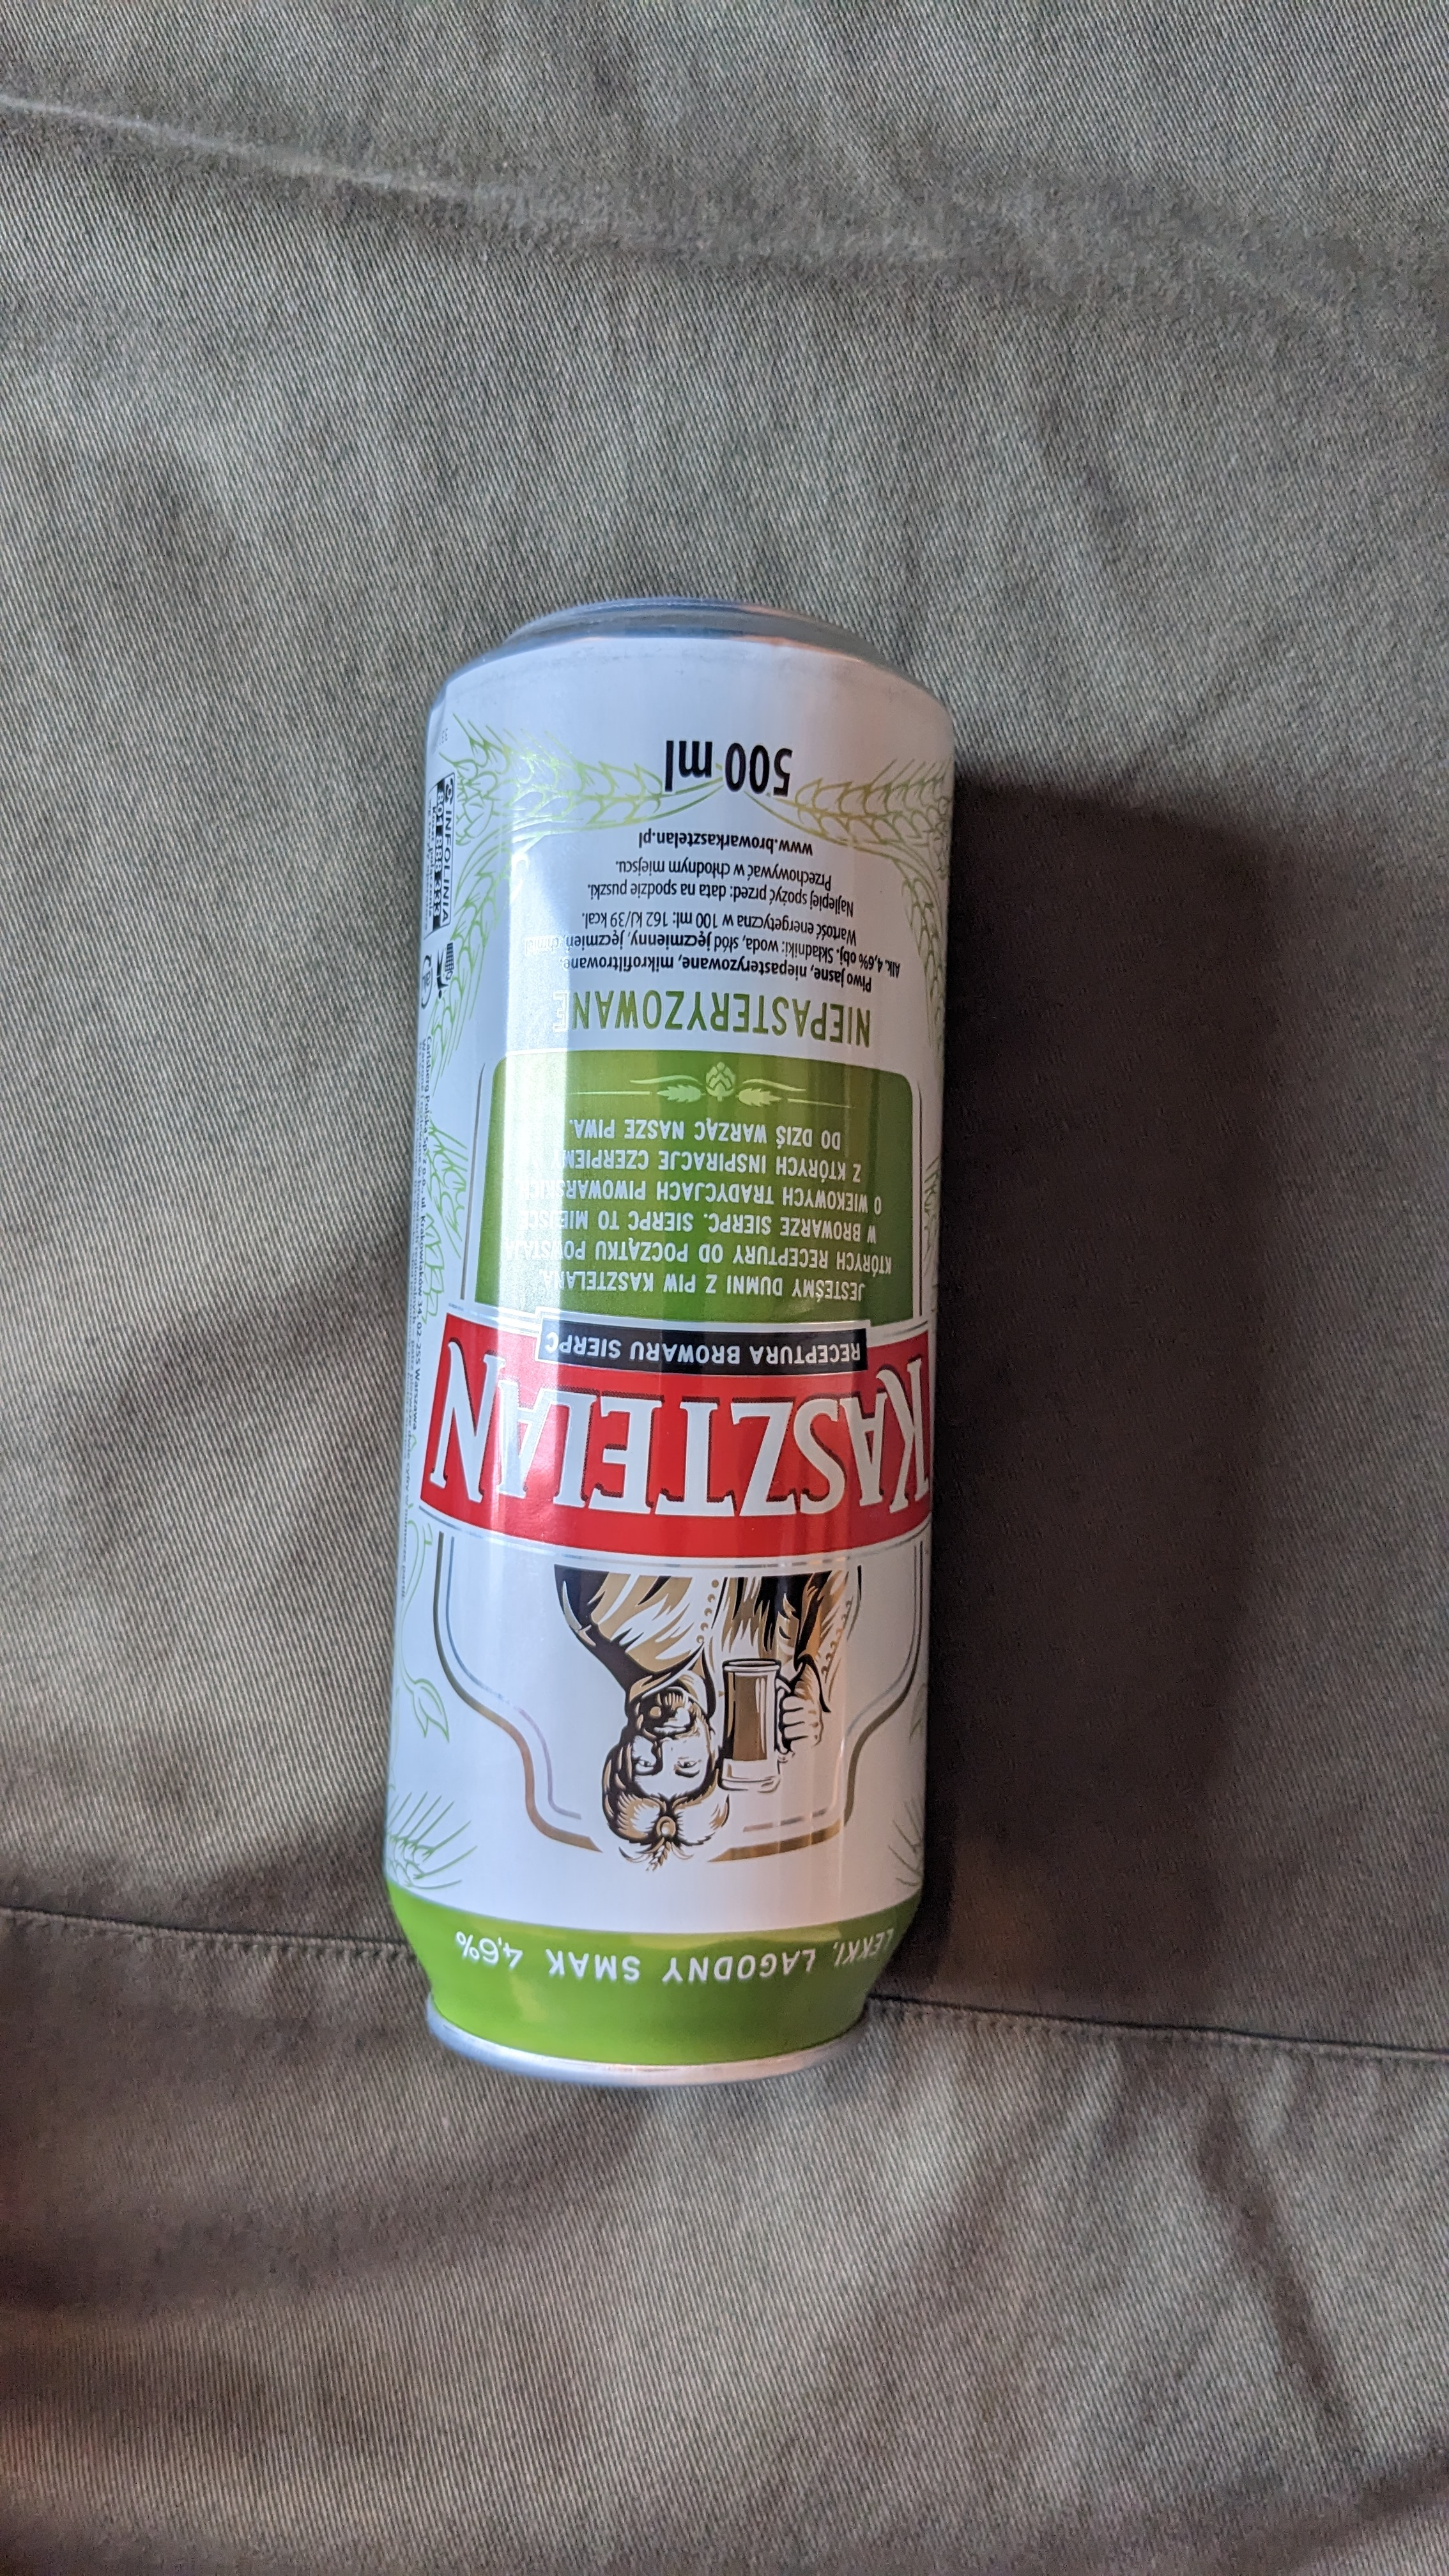kasztelan: (366, 584, 1044, 2088)
